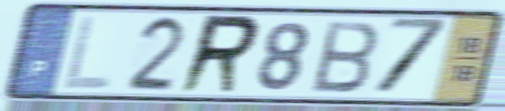2: (124, 12, 191, 95)
7: (375, 15, 452, 101)
8: (257, 20, 311, 92)
B: (310, 18, 382, 95)
L: (60, 12, 114, 92)
R: (175, 12, 264, 97)
